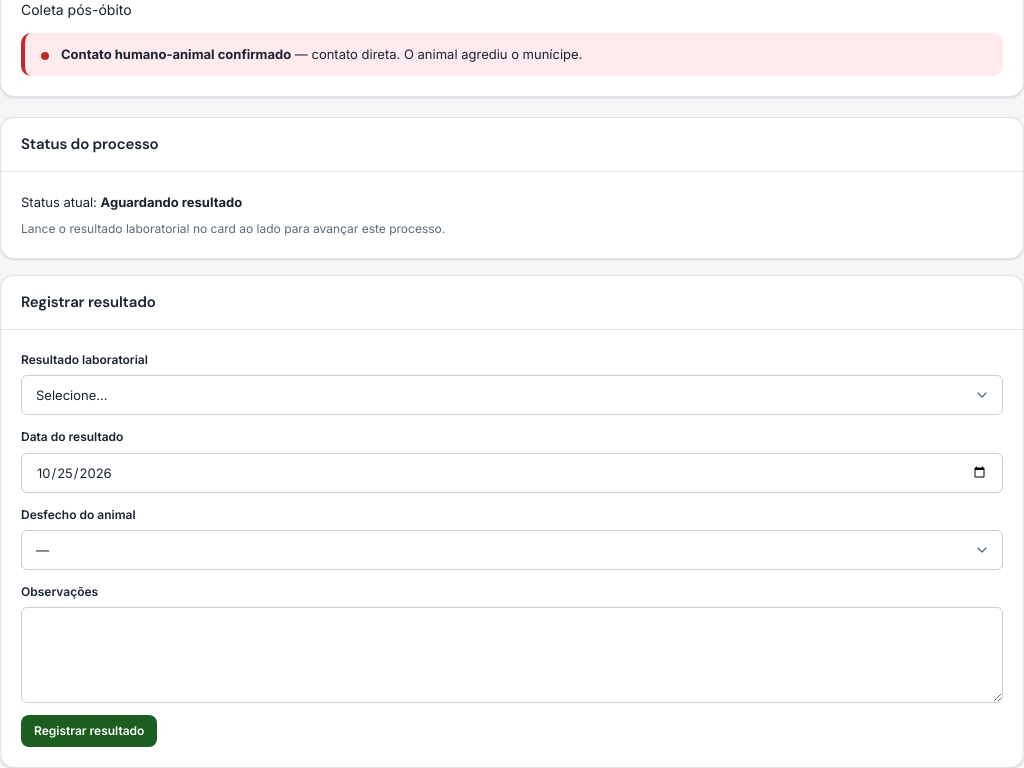
Scenario: ProcessoDetalhe — resultado laboratorial (T37) › resultado inconclusivo: notifica — sem confirmação, registra direto e acompanha o envio
(page scrolled)
Select "Inconclusivo" in the dropdown labelled "Resultado laboratorial" at (512, 395), box 21,375 -> 1003,415
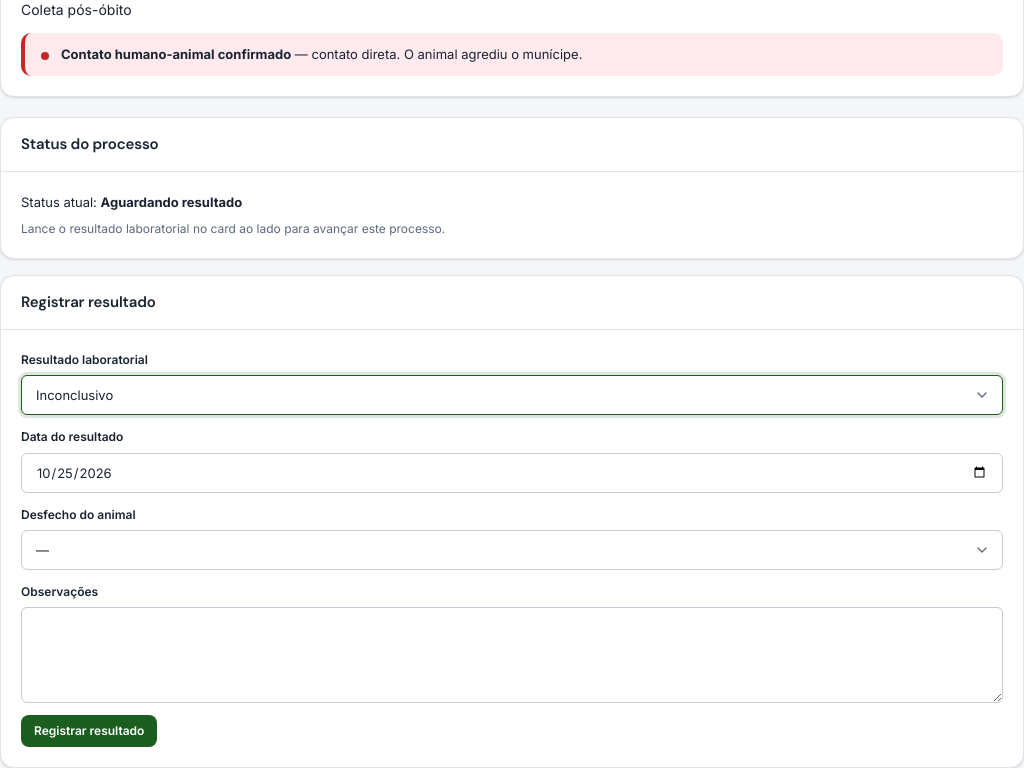
Click the button "Registrar resultado" at (89, 731), box 21,715 -> 157,747
(page scrolled)
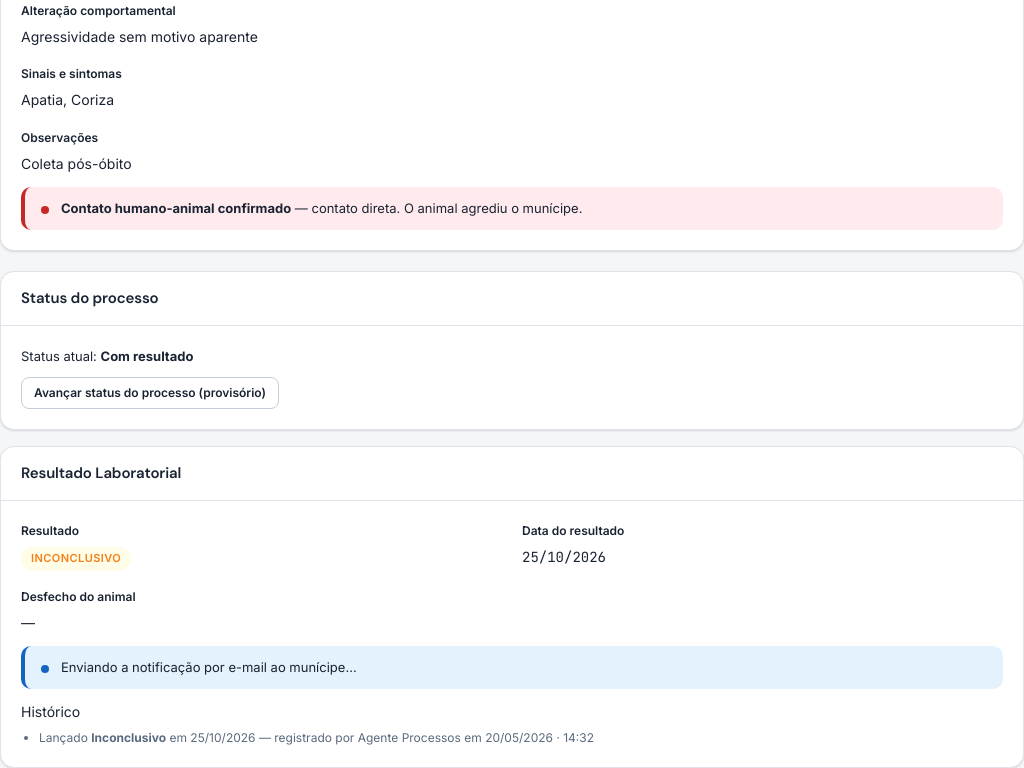
Check: the dropdown "Confirmar lançamento do resultado" is gone
Check: the 1st text "Inconclusivo" is shown, box 21,547 -> 131,571
Check: the text "Enviando a notificação por e-mail ao munícipe…" is shown, box 61,659 -> 357,675
